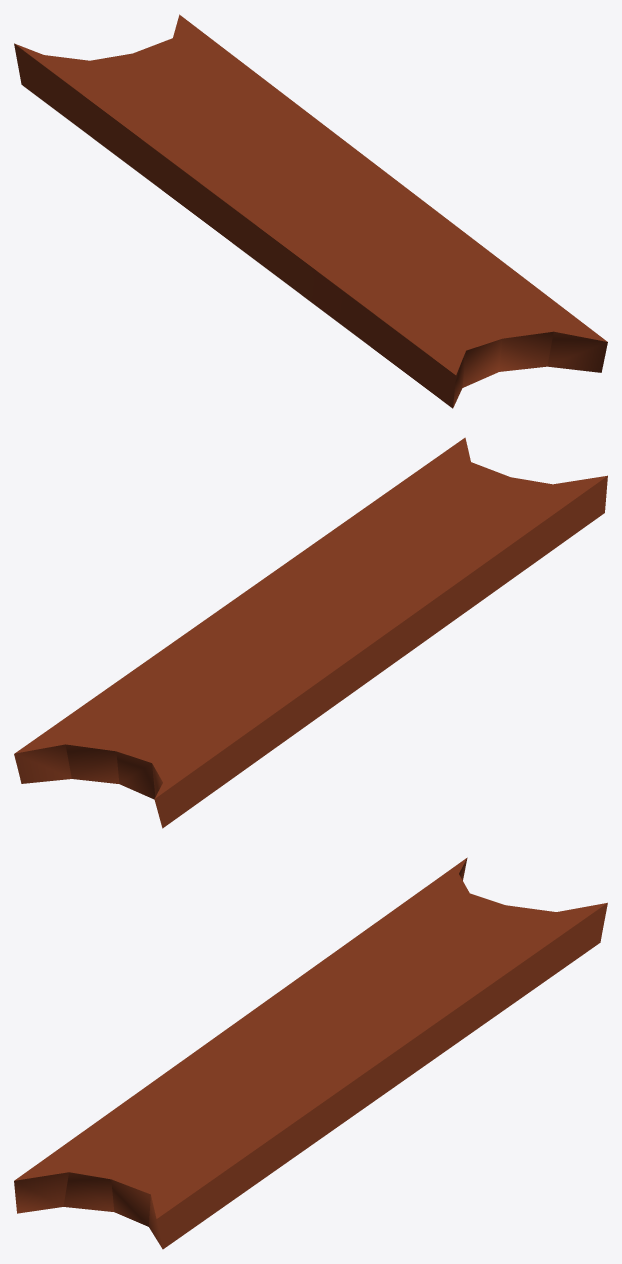
The model's file is BrokenBoard8.fbx.
The picture shows the model from 3 angles, top to bottom: view 1: azimuth 30°, elevation 25°; view 2: azimuth 150°, elevation 25°; view 3: azimuth 330°, elevation 25°; orthographic projection.
Parts seen in each view (by area): view 1: BrokenBoard.008; view 2: BrokenBoard.008; view 3: BrokenBoard.008.
Part boxes in pixels (x1,y1,x2,y2): BrokenBoard.008: [14, 14, 607, 408]; BrokenBoard.008: [14, 437, 607, 828]; BrokenBoard.008: [14, 857, 607, 1249].
Size of the model in its own units: 185 by 38.61 by 896.
